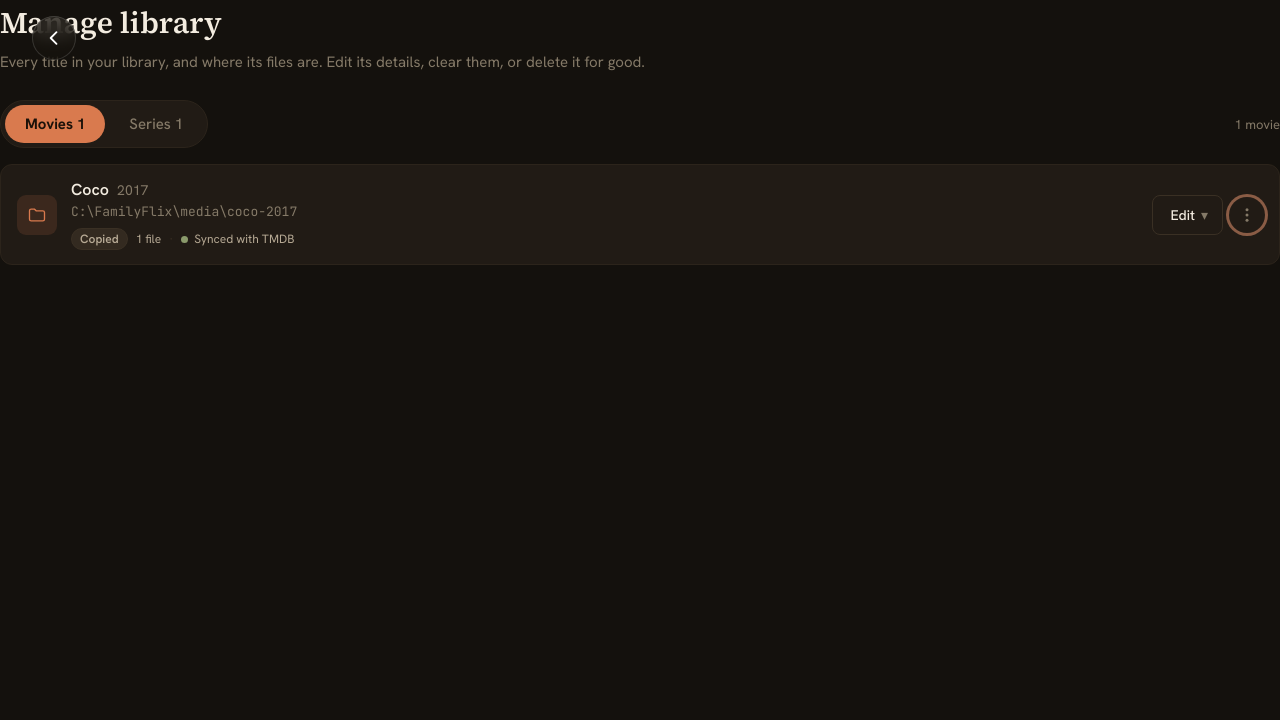
Test: ManageLibrary: Clear on the Loader timing › never reads Clearing… for a clear under 300ms, and closes at once
Expected: the button "Movies 1" is shown, left=5, top=105, right=105, bottom=143
Click the button named "More actions for “Coco”": (1247, 214) left=1229, top=196, right=1265, bottom=232
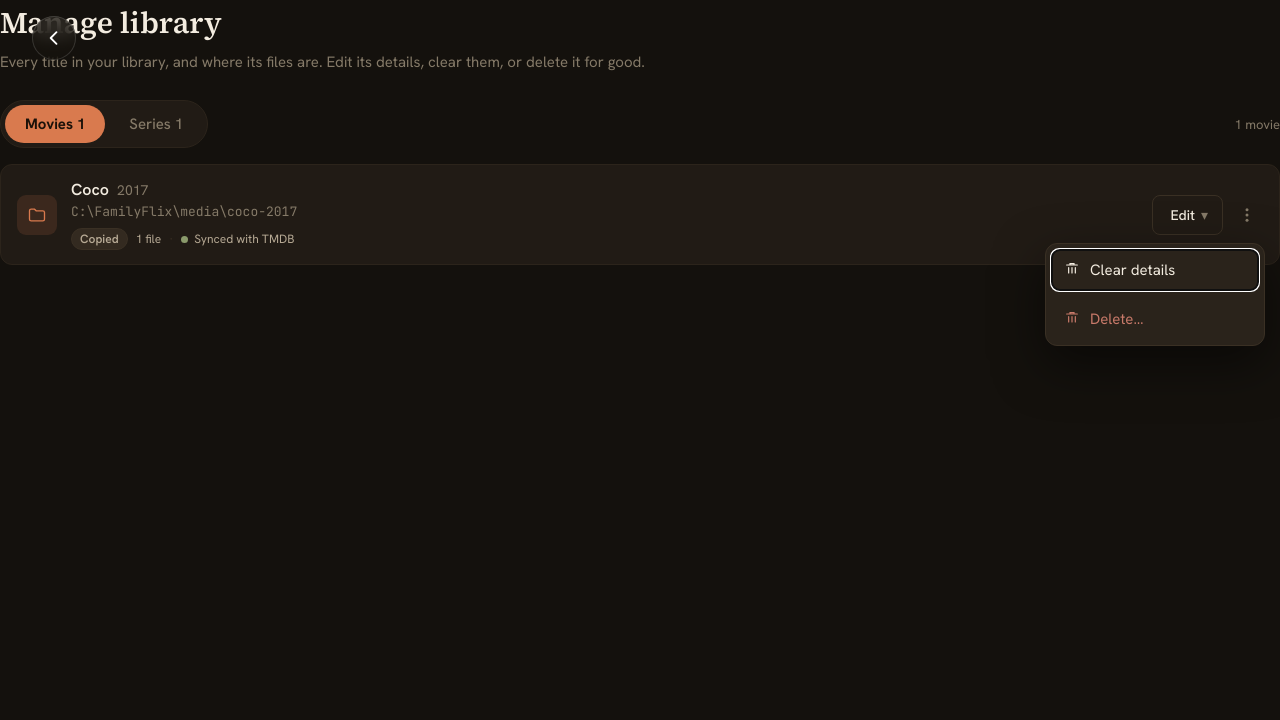
Click the menu item "Clear details": (1155, 270) left=1052, top=250, right=1258, bottom=290
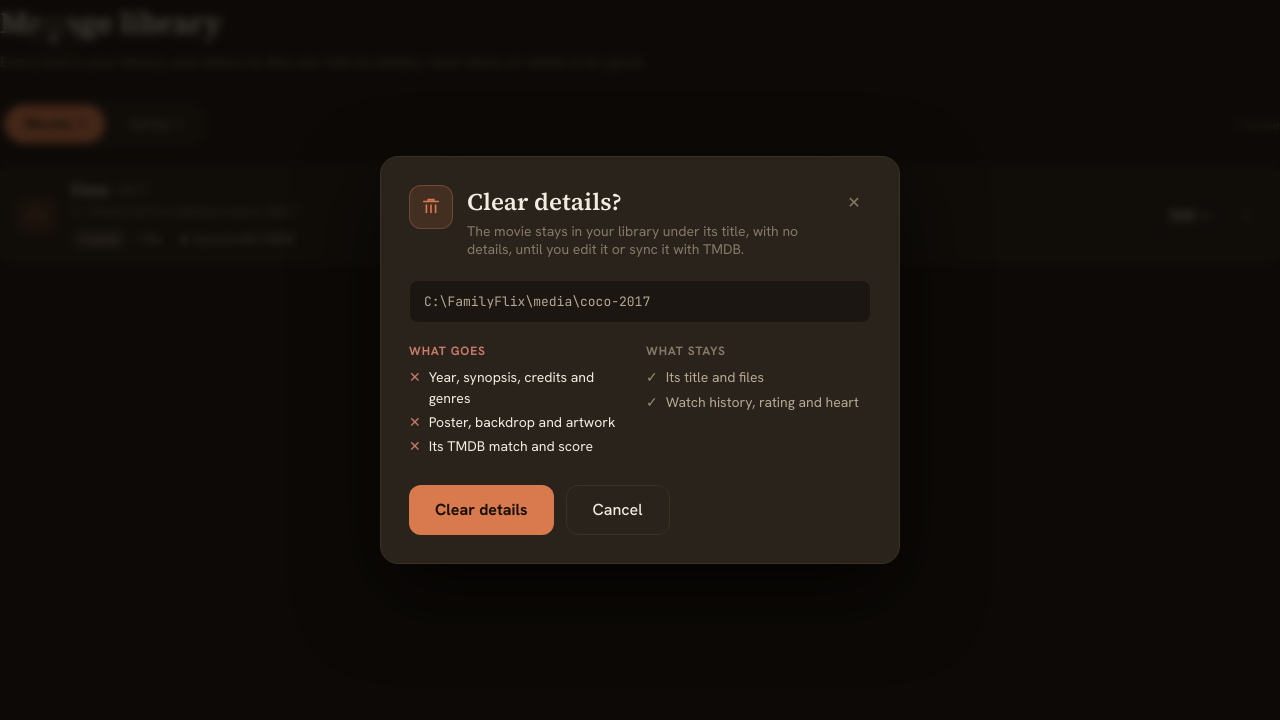
Click the button "Clear details": (481, 510) left=409, top=485, right=554, bottom=535
Wait 100 ms
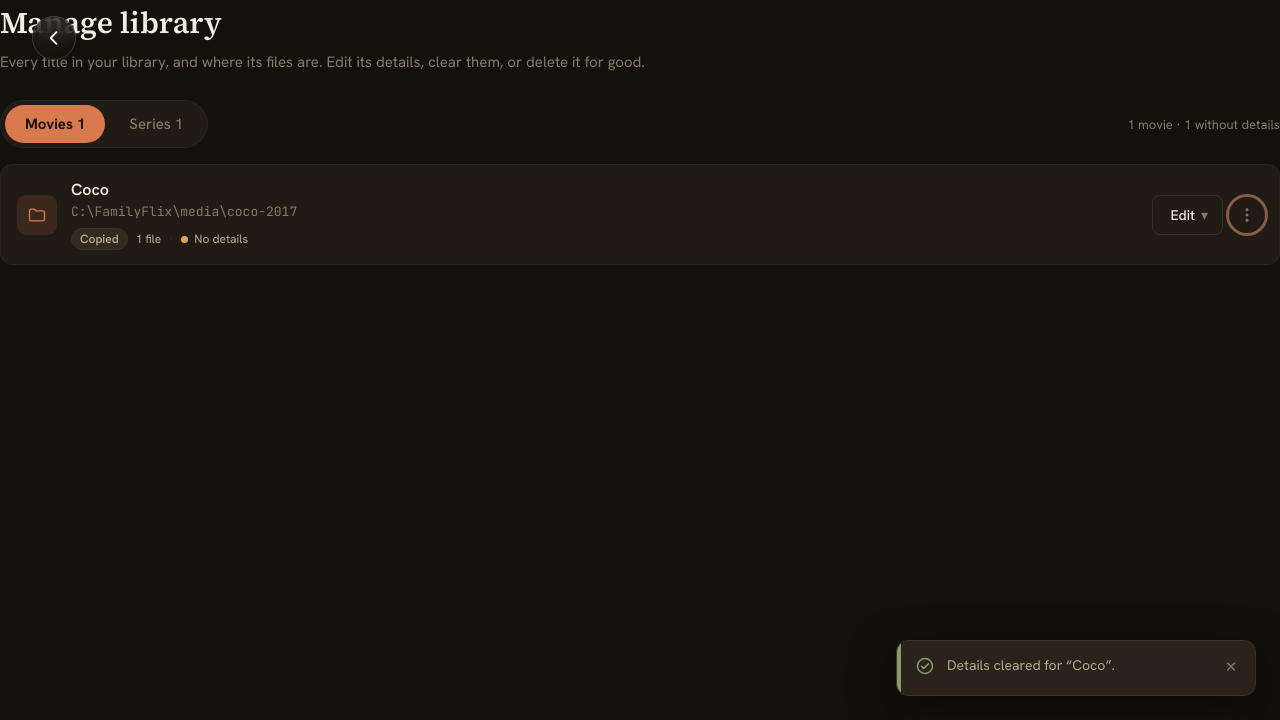
Result: the heading "Clear details?" is gone
Result: the text "Details cleared for “Coco”." is shown at left=947, top=656, right=1115, bottom=674
